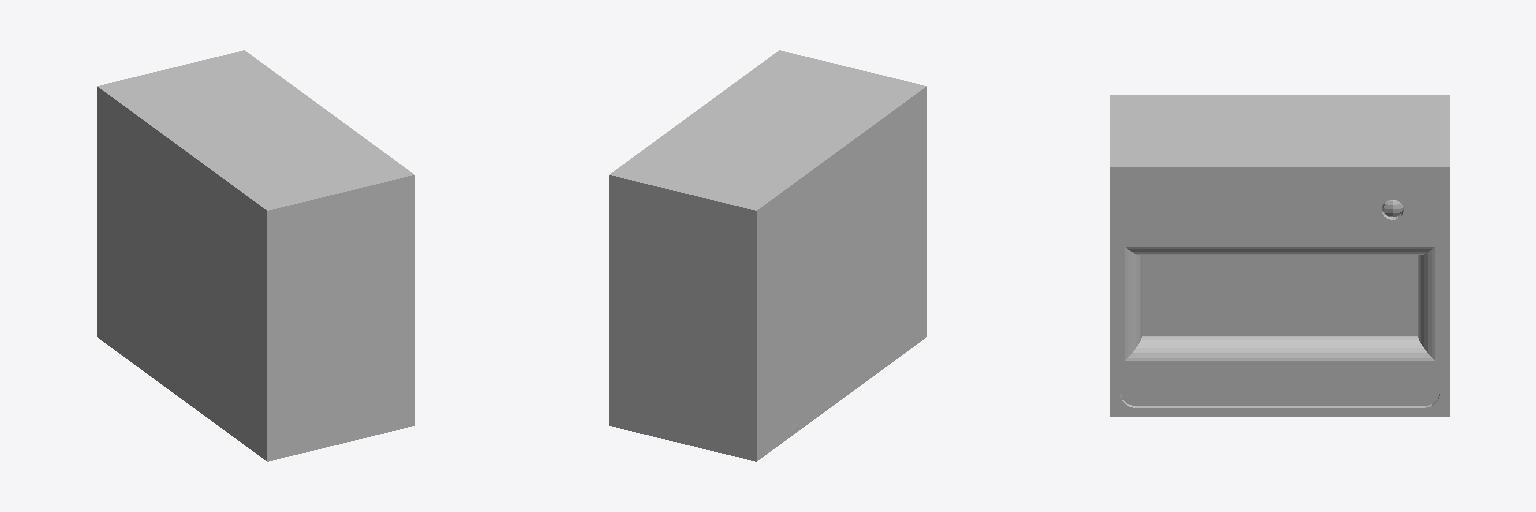
Rendered from AlarmButton.obj.
3 renders of one model, left to right at view 1: azimuth 30°, elevation 25°; view 2: azimuth 150°, elevation 25°; view 3: azimuth 270°, elevation 25°, orthographic.
Visible parts, largest first — view 1: Cube.002_low; view 2: Cube.002_low; view 3: Cube.002_low, Sphere_low.
Boxes of the visible parts, <box> form: Cube.002_low: <box>97,50,414,461</box>; Cube.002_low: <box>609,50,926,461</box>; Cube.002_low: <box>1110,95,1449,416</box>; Sphere_low: <box>1142,200,1417,335</box>.
Size of the model in its own units: 0.04 by 0.065 by 0.08.